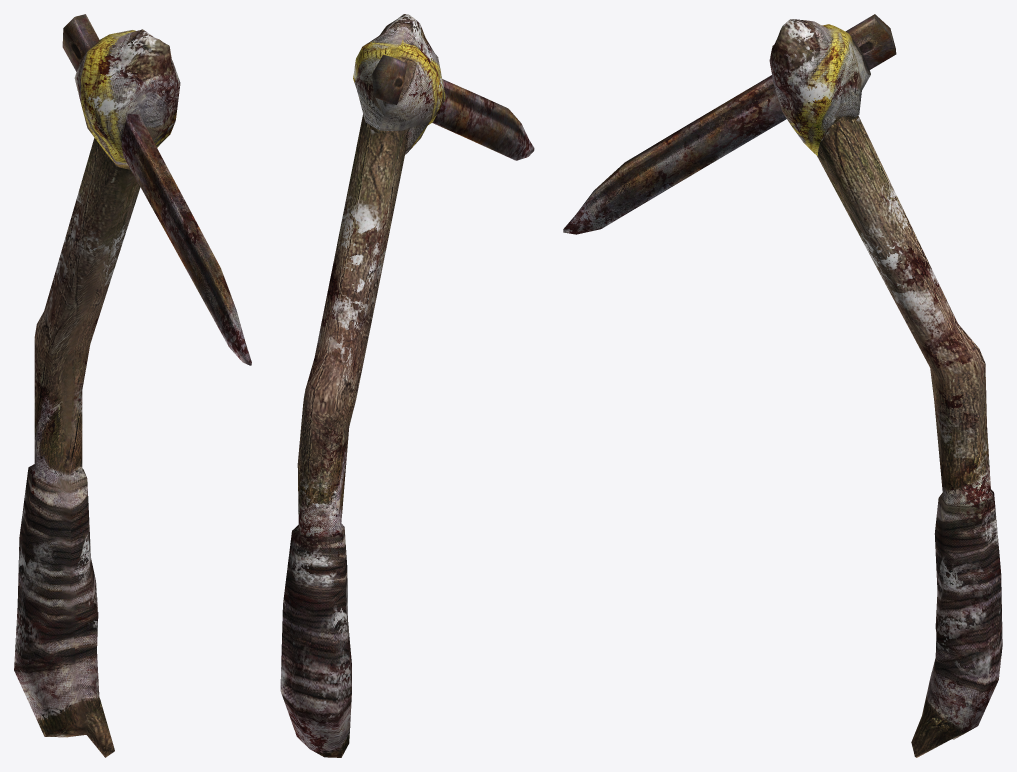
Rendered from Axe_custom.obj.
The picture shows the model from 3 angles, left to right: view 1: azimuth 30°, elevation 25°; view 2: azimuth 150°, elevation 25°; view 3: azimuth 270°, elevation 25°; orthographic projection. The views are drawn at different scales.
Bounding box in the file's own units: 0.1219 × 0.9832 × 0.5391.
1 material, 1 textured.
